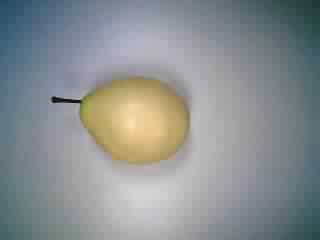pear: (42, 64, 200, 174)
